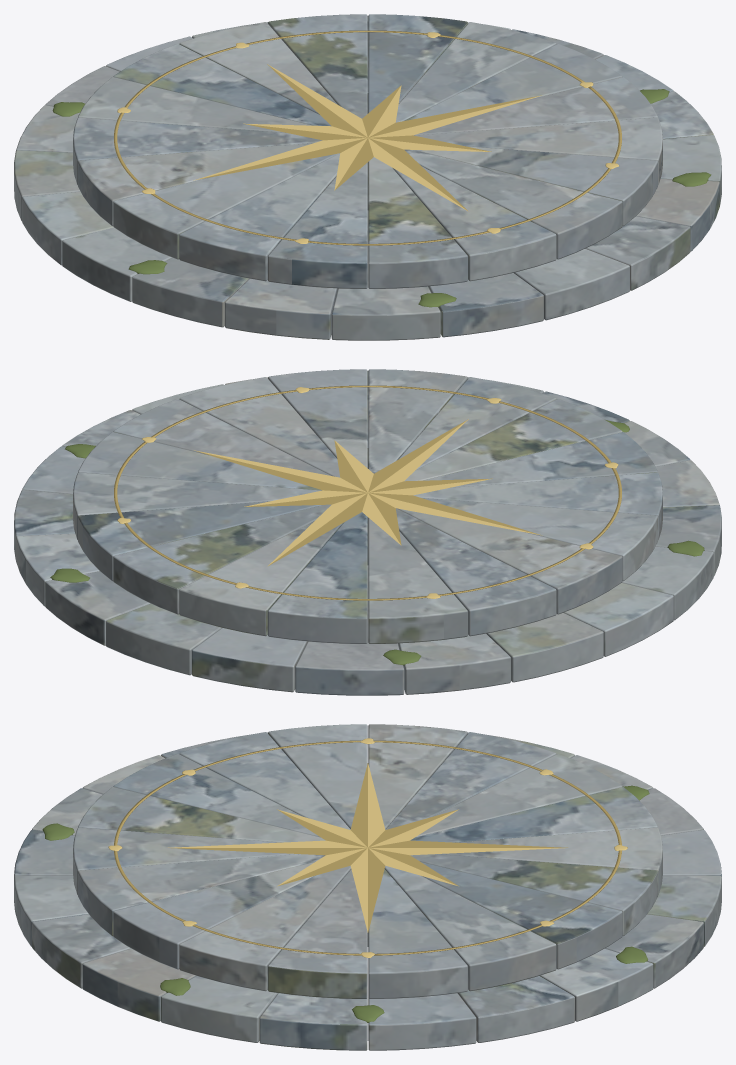
Rendered from SM_SP_ViewingDais.fbx.
The picture shows the model from 3 angles, top to bottom: view 1: azimuth 30°, elevation 25°; view 2: azimuth 150°, elevation 25°; view 3: azimuth 270°, elevation 25°; orthographic projection.
Visible parts, largest first — view 1: SM_SP_ViewingDais; view 2: SM_SP_ViewingDais; view 3: SM_SP_ViewingDais.
Part boxes in pixels (x1=…): SM_SP_ViewingDais: x1=14, y1=14, x2=721, y2=340; SM_SP_ViewingDais: x1=14, y1=369, x2=721, y2=695; SM_SP_ViewingDais: x1=14, y1=724, x2=721, y2=1050.
Size of the model in its own units: 3.6 by 3.6 by 0.304.
